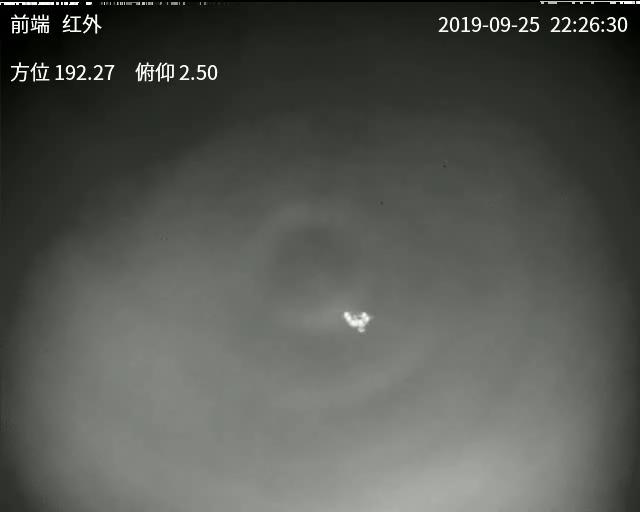uav: (340, 304, 376, 336)
